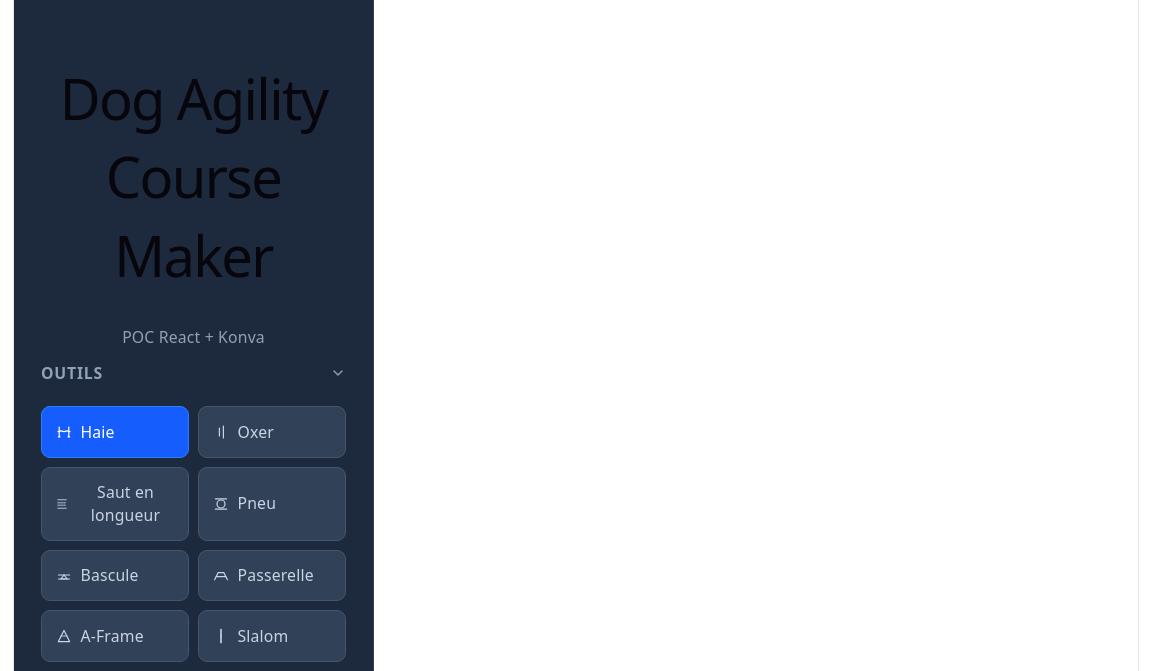
Sidebar accessibilité › aria-pressed bascule quand l'outil change
This screenshot has width=1152, height=671.
Step 1. Click the button "Bascule" → (115, 575), box 41,550 -> 189,601
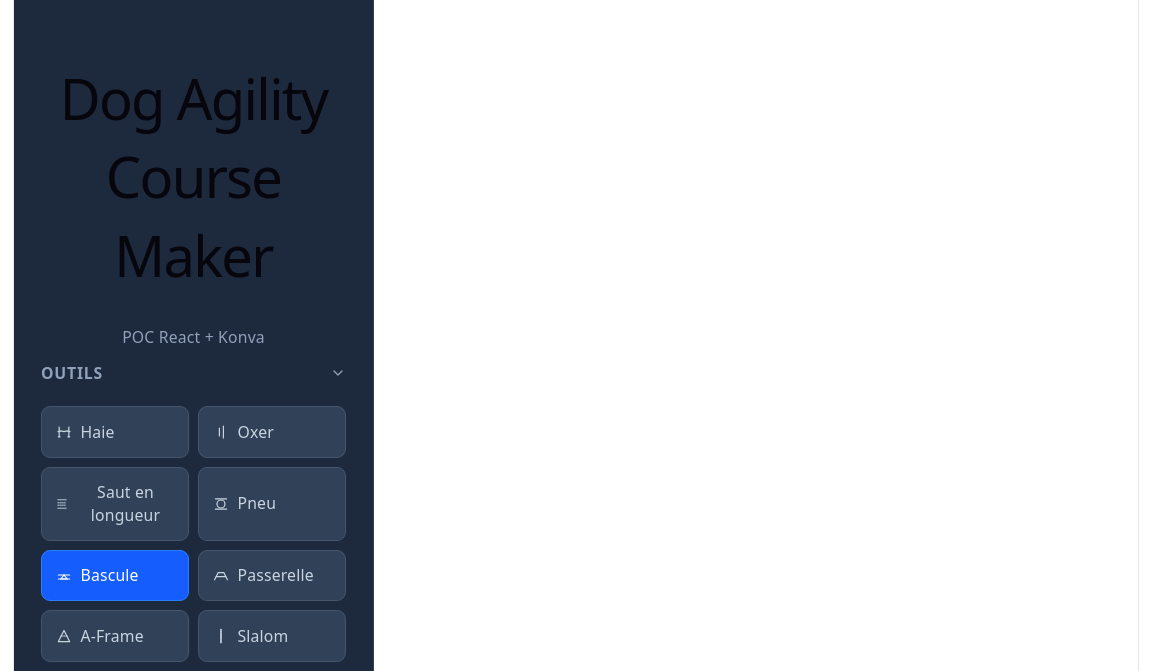
Now the button "Bascule" is pressed, box 41,550 -> 189,601
Now the button "Haie" is not pressed, box 41,406 -> 189,458
